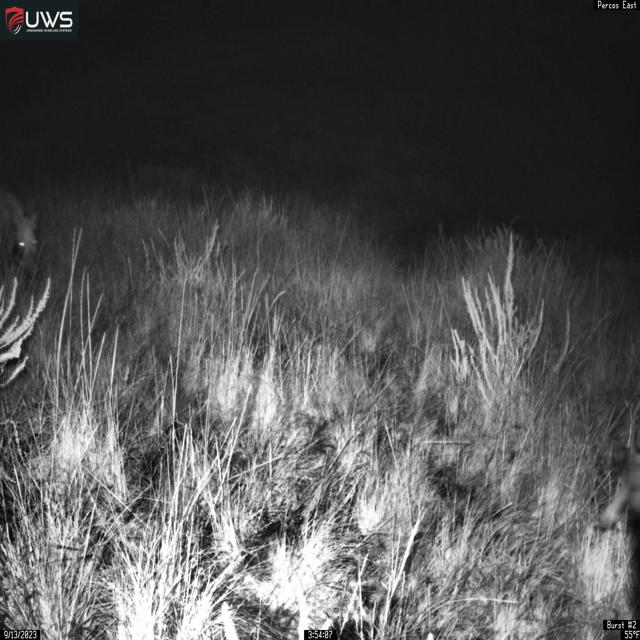pig: (0, 183, 41, 283)
